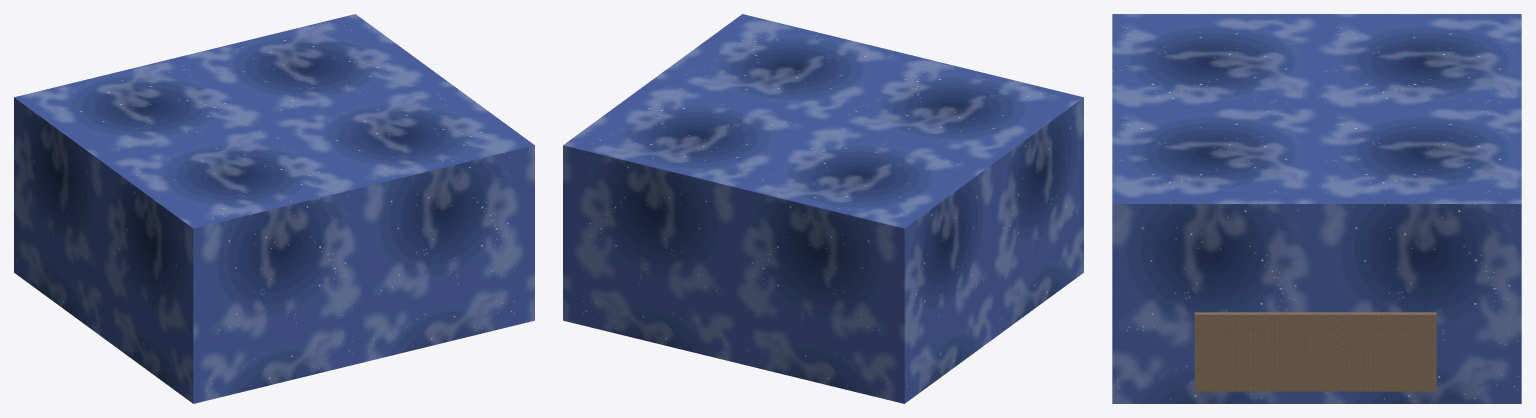
The model's file is VilInt_brush.glb.
3 views of the same model, side by side, from view 1: azimuth 30°, elevation 25°; view 2: azimuth 150°, elevation 25°; view 3: azimuth 270°, elevation 25° (orthographic). The views are drawn at different scales.
Visible parts, largest first — view 1: VilInt; view 2: VilInt; view 3: VilInt.
Boxes of the visible parts, x1,y1,x2,y2 form: VilInt: (14, 14, 534, 403); VilInt: (563, 14, 1083, 403); VilInt: (1112, 14, 1521, 403).
Size of the model in its own units: 7167 by 3302 by 6126.
Materials: 5 (5 with a texture image).
